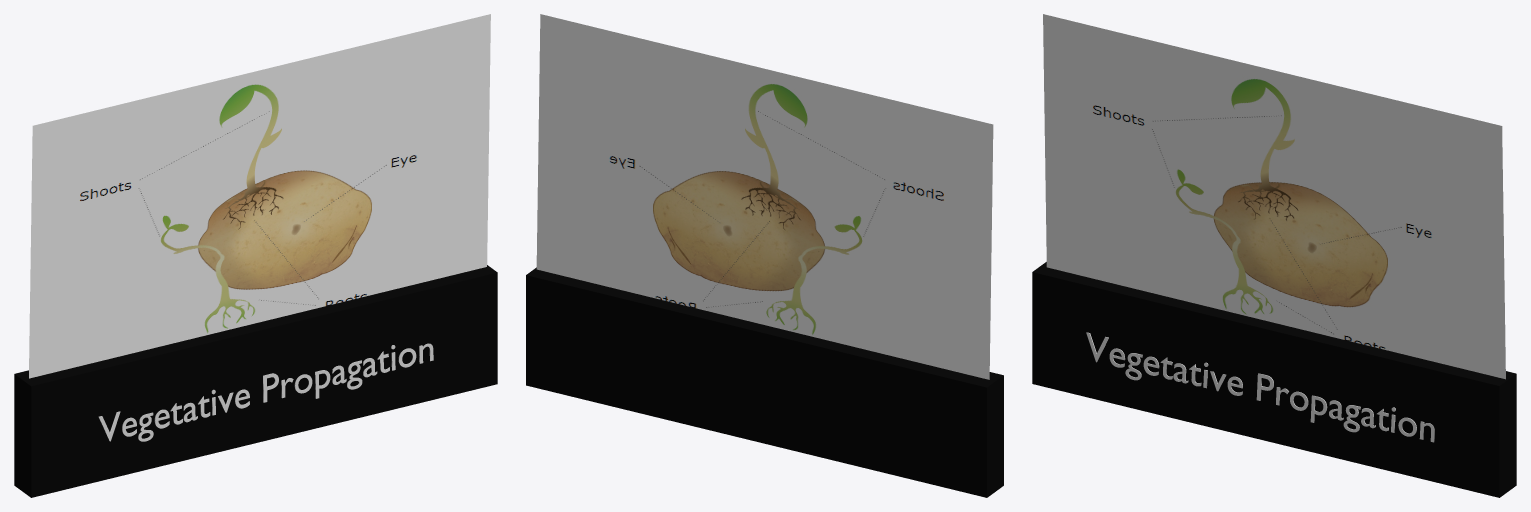
The model's file is vegetative.gltf.
The picture shows the model from 3 angles, left to right: view 1: azimuth 30°, elevation 25°; view 2: azimuth 150°, elevation 25°; view 3: azimuth 330°, elevation 25°; orthographic projection.
Parts seen in each view (by area): view 1: vegetative, Cube.005, Text.004; view 2: vegetative, Cube.005; view 3: vegetative, Cube.005, Text.004.
Part boxes in pixels (x1=…): vegetative: x1=29, y1=14, x2=490, y2=378; Cube.005: x1=14, y1=265, x2=497, y2=497; Text.004: x1=98, y1=343, x2=433, y2=441; vegetative: x1=536, y1=14, x2=993, y2=379; Cube.005: x1=526, y1=267, x2=1003, y2=497; vegetative: x1=1043, y1=14, x2=1505, y2=379; Cube.005: x1=1032, y1=262, x2=1516, y2=497; Text.004: x1=1086, y1=332, x2=1434, y2=442.
Bounding box in the file's own units: 3.34 × 2.51 × 0.306.
Materials: 2 (1 with a texture image).
